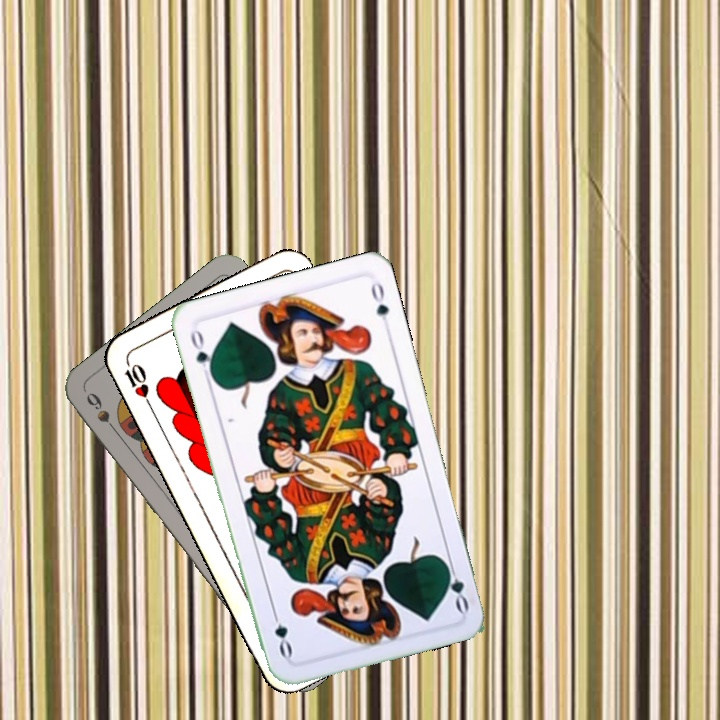GO: (440, 556, 472, 615), (186, 324, 217, 383)
H10: (120, 356, 155, 411)
S9: (81, 388, 123, 440)
